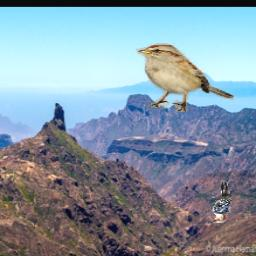Sparrow: (136, 43, 234, 112)
Woodpecker: (210, 181, 233, 224)
